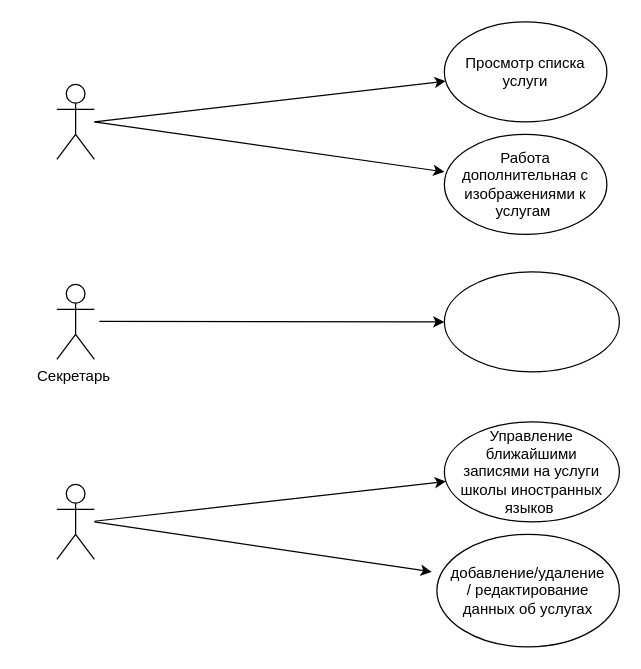
Image size: 641x669. Some labels were removed from this diagram. Here are the shapes that lost their labels. From the top down, the centre of each, then its label:
At point (75, 121): "Родитель".
At point (531, 321): "Запись клиента на услугу".
At point (75, 521): "Администратор".
